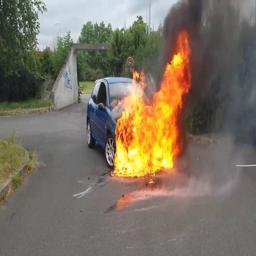fire: (113, 30, 192, 177)
